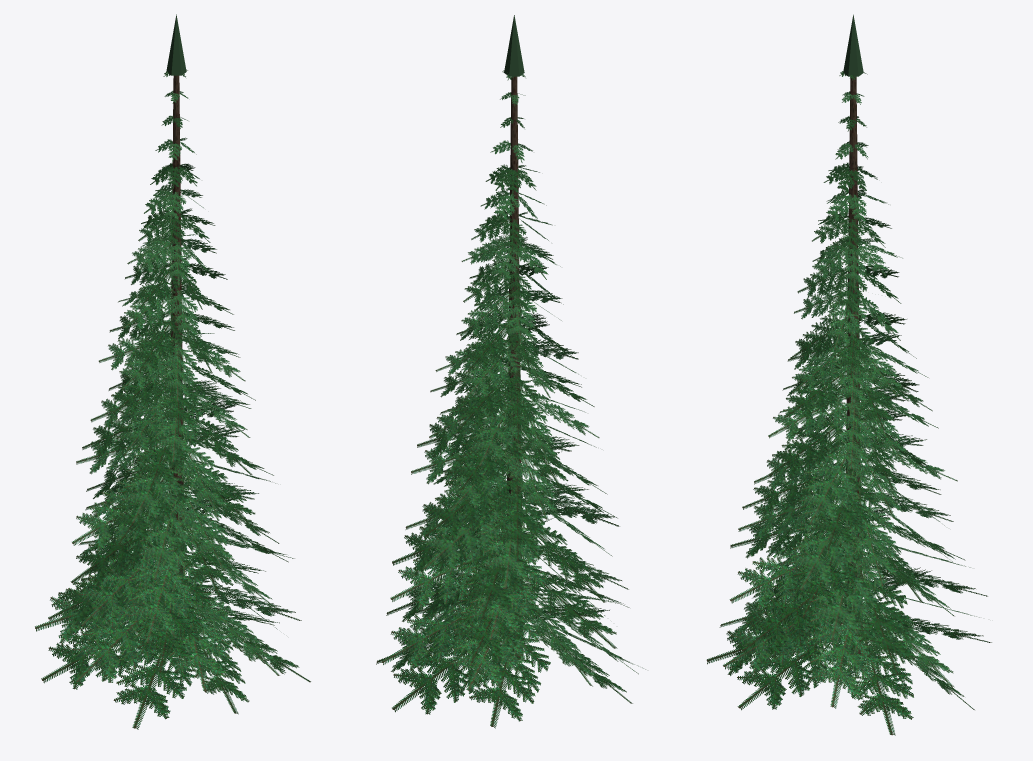
The model's file is spruce_hq_c.glb.
The picture shows the model from 3 angles, left to right: view 1: azimuth 30°, elevation 25°; view 2: azimuth 150°, elevation 25°; view 3: azimuth 270°, elevation 25°; orthographic projection.
Parts seen in each view (by area): view 1: sprucehq; view 2: sprucehq; view 3: sprucehq.
Part boxes in pixels (box(x1,y1,x2,y2)): sprucehq: box(35, 14, 310, 729); sprucehq: box(376, 15, 645, 728); sprucehq: box(706, 14, 991, 735).
Size of the model in its own units: 10.66 by 25.52 by 10.92.
Materials: 4 (3 with a texture image).
